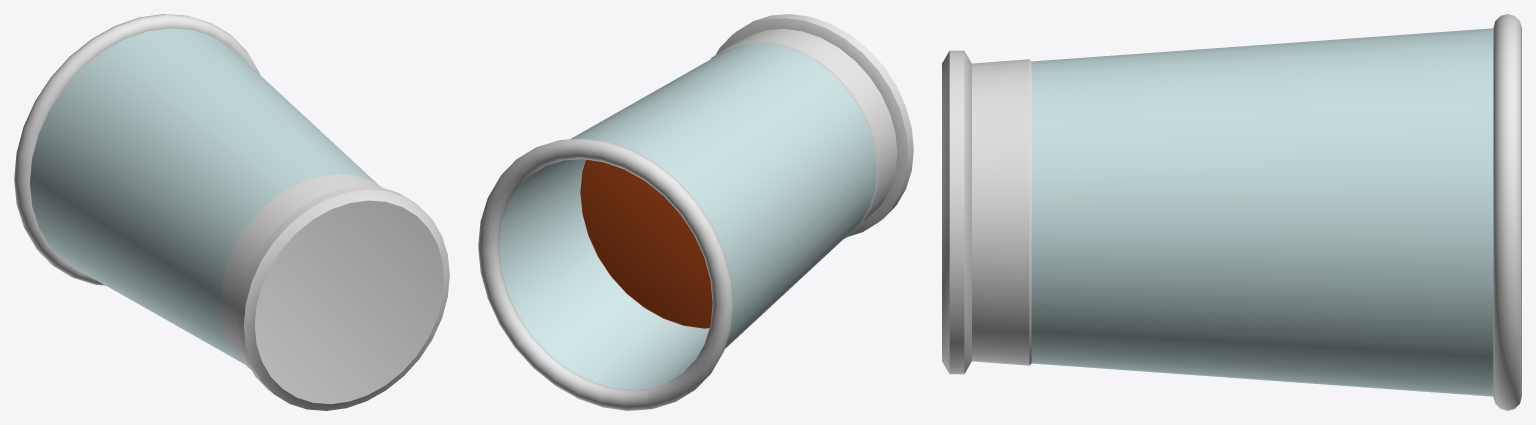
Rendered from glass.dae.
The picture shows the model from 3 angles, left to right: view 1: azimuth 30°, elevation 25°; view 2: azimuth 150°, elevation 25°; view 3: azimuth 270°, elevation 25°; orthographic projection. The views are drawn at different scales.
Visible parts, largest first — view 1: Glass_LOD0; view 2: Glass_LOD0, Liquid_LOD0; view 3: Glass_LOD0.
Boxes of the visible parts, <box> form: Glass_LOD0: <box>14,14,449,410</box>; Glass_LOD0: <box>478,14,913,410</box>; Liquid_LOD0: <box>580,159,712,328</box>; Glass_LOD0: <box>942,14,1521,410</box>.
Size of what is drawn, in the model's own units: 2.78 by 4.05 by 2.78.
